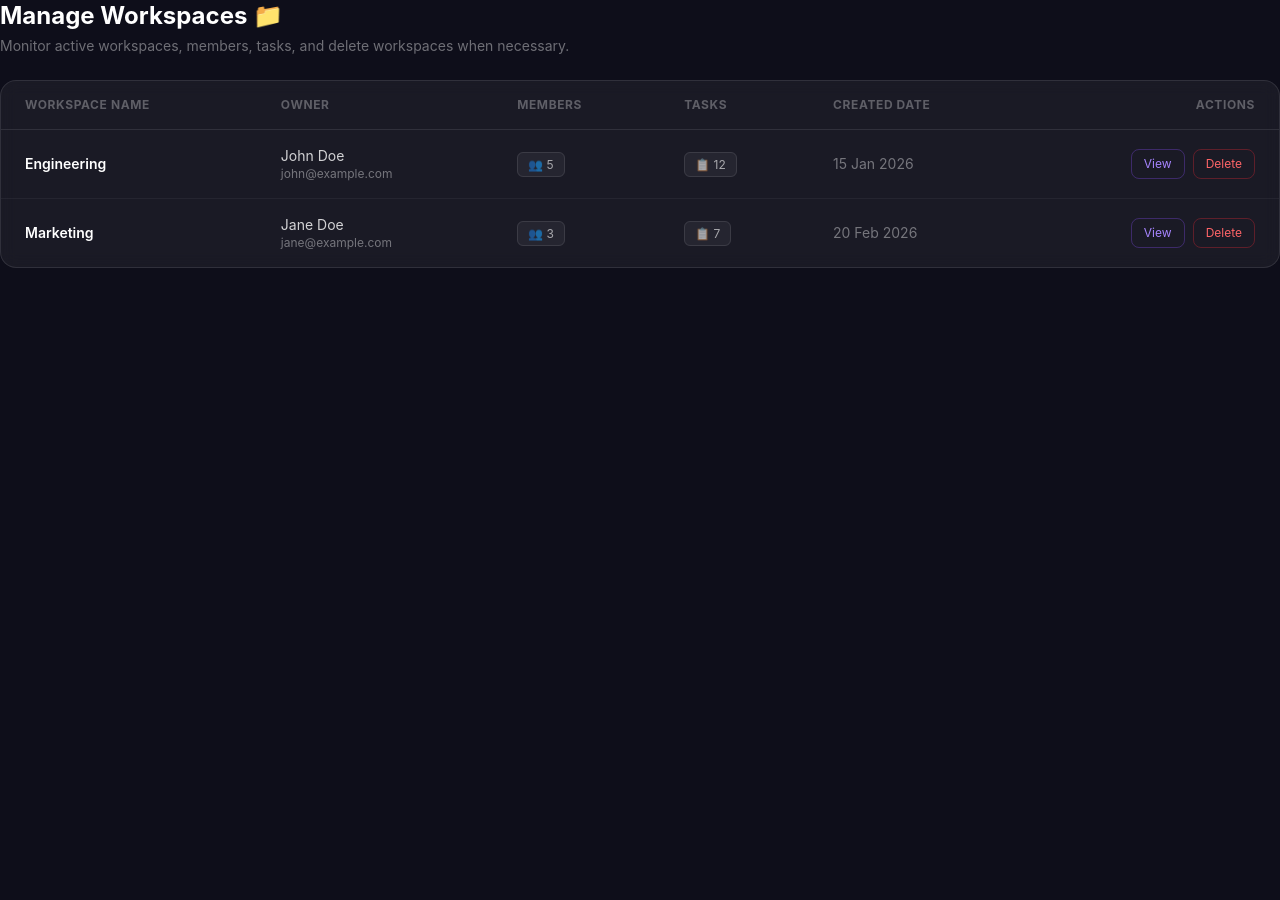
Test: ManageWorkspaces › opens workspace details modal
expect the text "Engineering" is shown: met, box [1,130,257,198]
Click the button "View" in the row of "Engineering" at [1158, 164], box [1131,149,1185,179]
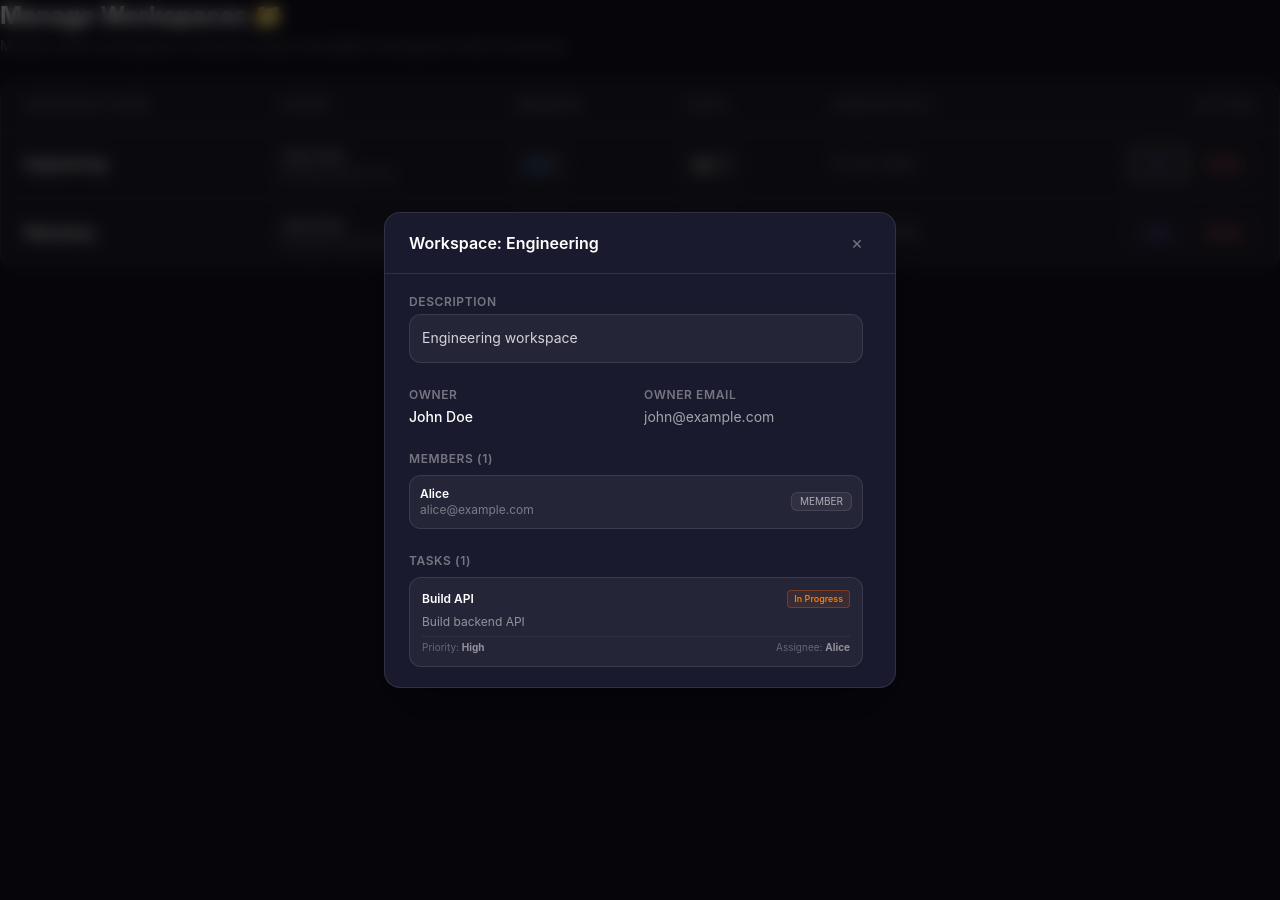
expect the heading "Workspace: Engineering" is shown: met, box [409,231,599,255]
expect the text "Engineering workspace" is shown: met, box [409,314,863,363]
expect the text "Alice" is shown 2 times: met, box [420,486,449,501]; [825,641,850,653]
